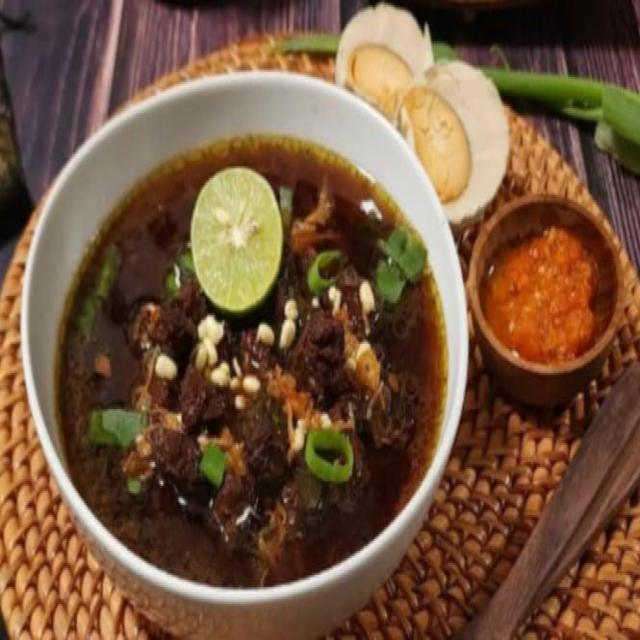Rawon: (75, 109, 434, 556)
